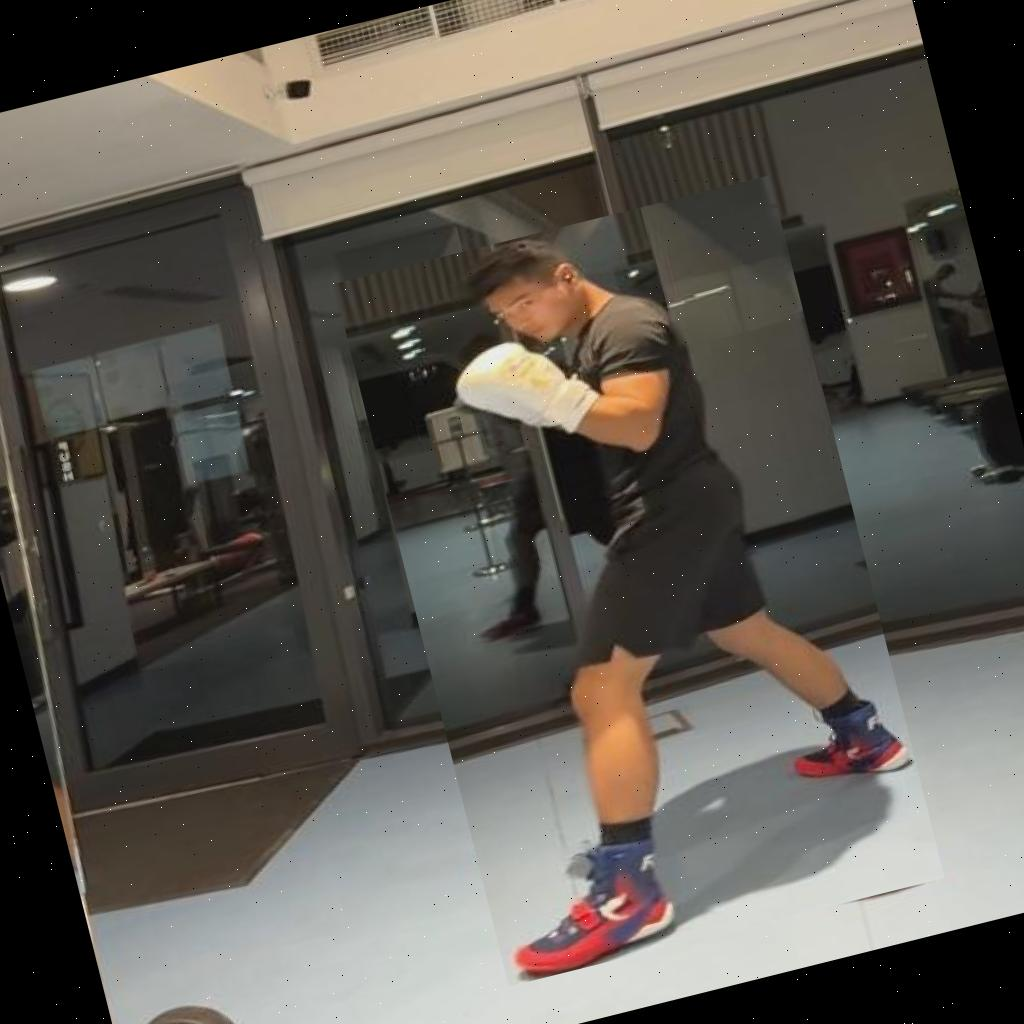no punch: (334, 175, 944, 986)
